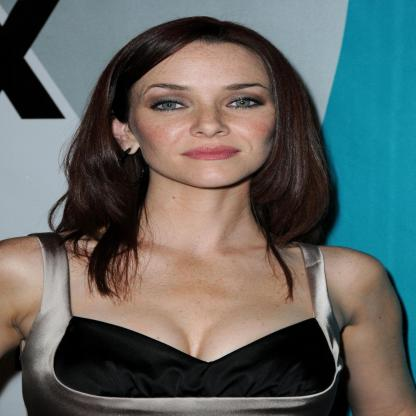long-hair: (45, 189, 357, 250)
